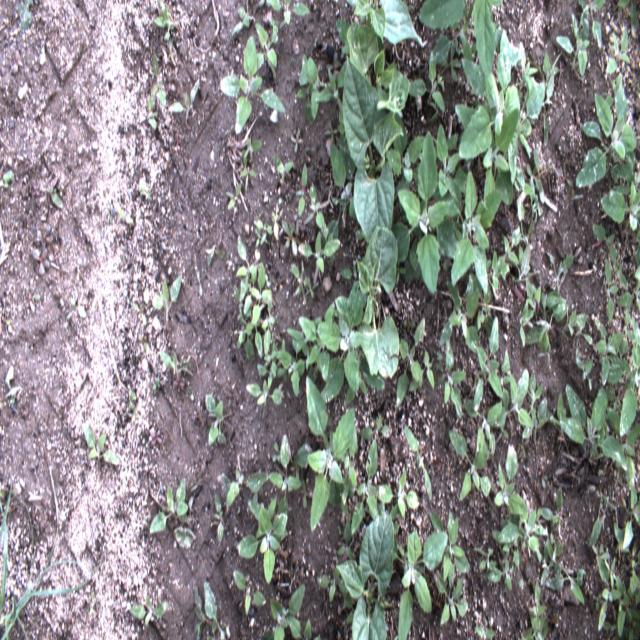crop: (342, 51, 404, 261), (334, 514, 394, 639), (352, 225, 399, 379), (335, 18, 408, 111), (346, 0, 428, 46)
weed: (0, 466, 108, 640), (384, 130, 463, 295), (294, 376, 356, 530), (429, 170, 503, 295), (453, 22, 520, 159), (316, 280, 385, 404), (576, 74, 637, 194), (381, 529, 448, 638), (219, 36, 287, 138), (418, 0, 503, 78), (323, 105, 367, 250), (559, 383, 628, 472), (492, 488, 548, 576), (249, 436, 303, 525), (236, 493, 287, 584), (383, 112, 433, 198), (508, 74, 545, 186), (598, 341, 639, 436), (483, 108, 518, 206), (429, 508, 470, 588), (601, 180, 639, 266), (540, 538, 588, 606), (449, 425, 491, 501), (440, 272, 479, 353), (286, 318, 331, 384), (473, 316, 503, 411), (488, 368, 534, 428), (405, 48, 445, 114), (351, 440, 379, 534), (524, 297, 570, 354), (396, 317, 425, 407), (437, 122, 470, 198), (263, 582, 305, 640), (556, 5, 590, 76), (464, 398, 504, 455), (373, 468, 419, 517), (192, 581, 230, 639), (613, 522, 639, 606), (149, 478, 188, 532), (404, 426, 432, 500), (594, 316, 623, 386), (434, 566, 468, 625), (596, 556, 622, 630), (513, 165, 538, 239), (297, 231, 341, 273), (543, 51, 562, 148), (232, 285, 254, 367), (314, 61, 348, 114), (444, 340, 466, 419), (275, 335, 302, 399), (83, 423, 121, 465), (536, 486, 562, 546), (151, 273, 182, 323), (233, 571, 267, 616), (588, 492, 616, 546), (297, 56, 319, 124), (473, 269, 495, 337), (494, 444, 518, 506), (514, 240, 538, 302), (617, 262, 640, 326), (247, 380, 284, 419), (342, 424, 358, 514), (525, 581, 549, 639), (620, 423, 639, 496), (577, 0, 604, 49), (601, 384, 624, 440), (255, 25, 278, 80), (168, 78, 200, 117), (604, 26, 630, 74), (622, 482, 640, 550), (174, 494, 196, 548), (268, 0, 310, 28), (523, 397, 551, 439), (206, 392, 226, 449), (130, 596, 169, 624), (236, 237, 252, 305), (546, 250, 574, 288), (519, 38, 539, 89), (566, 310, 594, 346), (592, 223, 616, 264), (338, 580, 359, 625), (317, 564, 341, 603), (159, 348, 189, 379), (605, 256, 619, 322), (260, 294, 275, 355), (153, 1, 176, 39), (486, 252, 509, 290), (222, 469, 246, 505), (0, 480, 13, 546), (548, 392, 566, 438), (290, 264, 310, 305), (619, 316, 639, 357), (616, 574, 629, 637), (257, 362, 287, 389), (618, 0, 639, 38), (499, 348, 511, 414), (243, 266, 260, 312), (442, 41, 461, 82), (308, 182, 325, 227), (575, 348, 593, 390), (361, 414, 391, 439), (487, 559, 511, 590), (152, 54, 166, 106), (287, 617, 319, 639), (504, 227, 522, 265), (535, 291, 562, 316), (337, 516, 353, 558), (520, 300, 534, 348), (526, 373, 543, 412), (620, 607, 640, 639), (5, 365, 21, 404), (259, 262, 272, 310), (598, 552, 615, 588), (281, 218, 297, 256), (252, 302, 262, 362), (31, 246, 50, 275), (264, 337, 286, 362), (297, 163, 307, 217), (275, 156, 294, 184), (66, 293, 86, 319), (326, 51, 342, 83), (214, 492, 224, 543), (232, 7, 250, 35), (526, 163, 542, 194), (225, 182, 242, 211), (206, 243, 228, 265), (243, 139, 262, 164), (18, 1, 34, 30), (476, 547, 493, 574), (37, 224, 53, 252), (148, 87, 158, 131), (612, 258, 627, 287), (46, 183, 62, 210), (163, 39, 179, 66), (528, 286, 541, 317), (476, 618, 495, 638), (28, 284, 41, 312), (424, 349, 433, 389), (600, 620, 618, 640), (241, 168, 257, 190), (496, 418, 510, 442), (290, 129, 303, 154), (271, 204, 280, 240), (324, 121, 338, 142), (116, 208, 133, 225), (592, 587, 604, 611), (306, 276, 319, 298), (1, 169, 15, 188), (256, 220, 274, 234), (126, 388, 136, 413), (140, 181, 152, 201), (151, 428, 164, 444), (256, 231, 267, 247), (540, 471, 548, 488), (152, 378, 160, 391)
